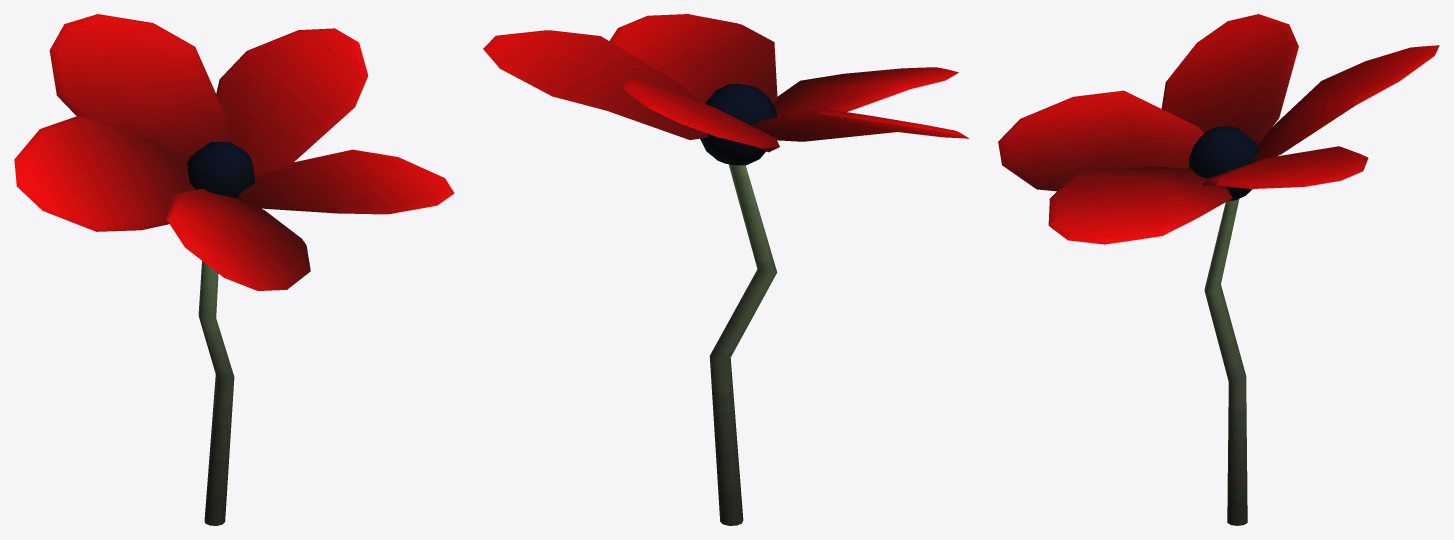
Rendered from SM_Flower_Red.fbx.
The picture shows the model from 3 angles, left to right: view 1: azimuth 30°, elevation 25°; view 2: azimuth 150°, elevation 25°; view 3: azimuth 270°, elevation 25°; orthographic projection. The views are drawn at different scales.
Visible parts, largest first — view 1: Flower_002; view 2: Flower_002; view 3: Flower_002.
Part boxes in pixels (x1=…): Flower_002: x1=14, y1=14, x2=454, y2=525; Flower_002: x1=483, y1=14, x2=969, y2=525; Flower_002: x1=998, y1=14, x2=1439, y2=525.
Bounding box in the file's own units: 35.33 × 39.35 × 34.65.
